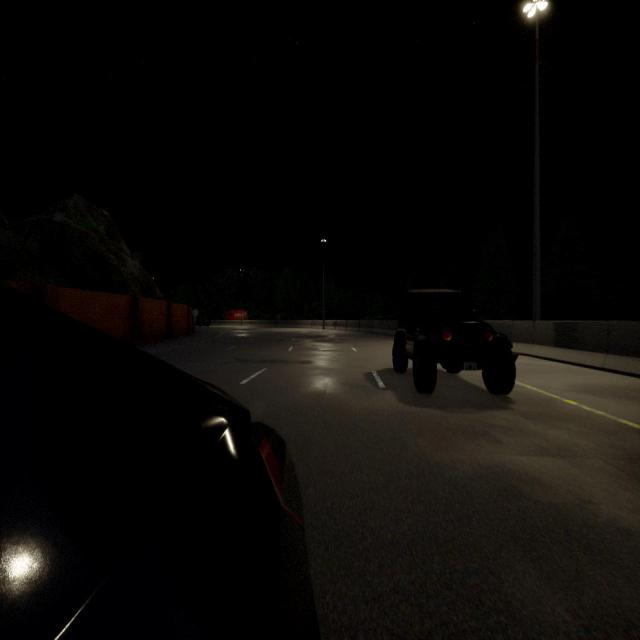Traffic_Signs: (192, 308, 198, 317)
Vehicle: (0, 282, 319, 640), (393, 291, 518, 400), (222, 310, 248, 321), (198, 317, 210, 328)
